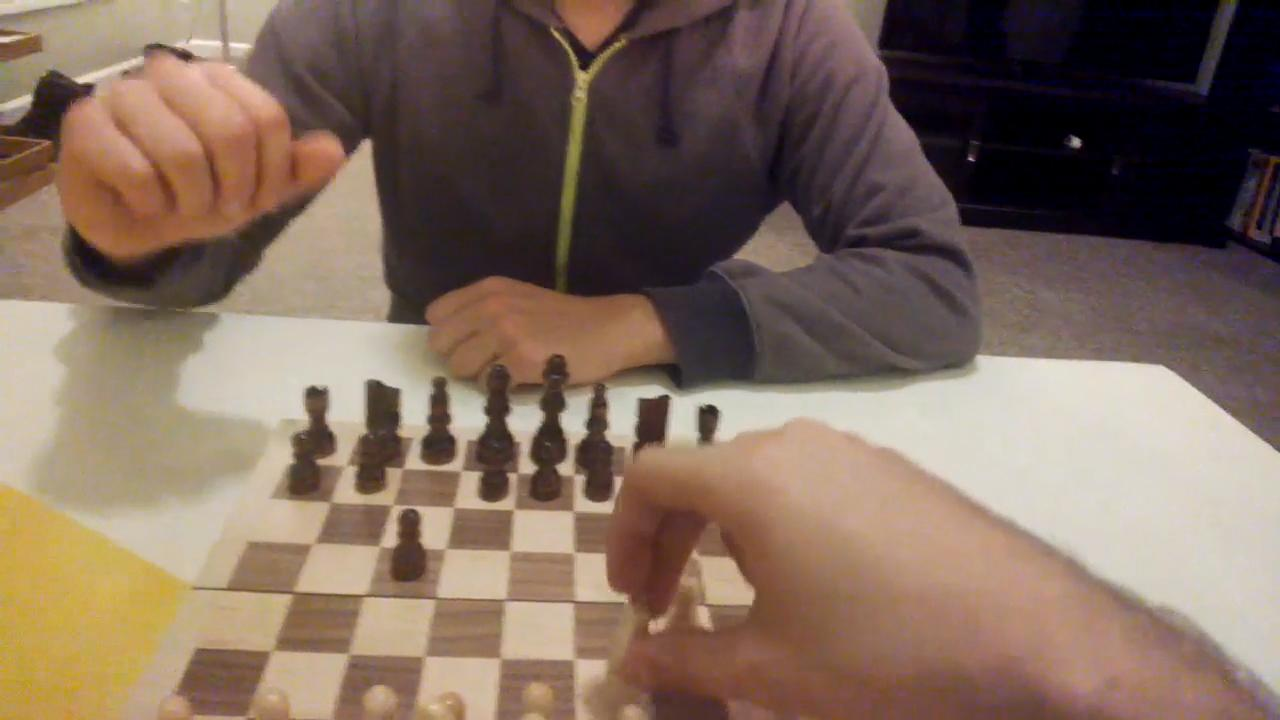hand: (593, 417, 1051, 706), (53, 47, 347, 262), (417, 255, 618, 397)
